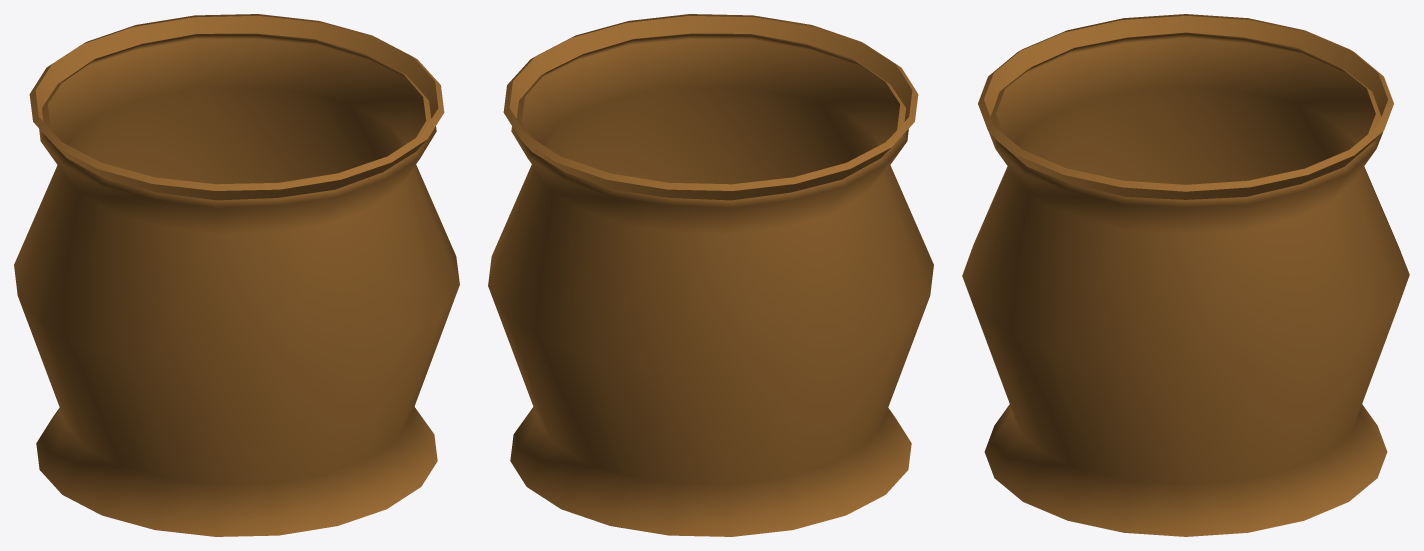
File: pottery01.fbx
The picture shows the model from 3 angles, left to right: view 1: azimuth 30°, elevation 25°; view 2: azimuth 150°, elevation 25°; view 3: azimuth 270°, elevation 25°; orthographic projection.
Visible parts, largest first — view 1: pCylinder3; view 2: pCylinder3; view 3: pCylinder3.
Part boxes in pixels (<box>): pCylinder3: <box>14,14,459,536</box>; pCylinder3: <box>488,14,933,536</box>; pCylinder3: <box>962,14,1409,536</box>.
Bounding box in the file's own units: 2.37 × 2.06 × 2.37.
